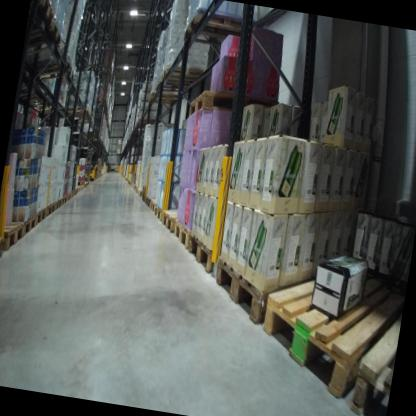pallet: (253, 247, 406, 402), (206, 240, 294, 330), (348, 307, 401, 416), (184, 82, 275, 129), (179, 6, 262, 57), (27, 13, 70, 67), (28, 54, 76, 91), (185, 230, 221, 274), (159, 202, 200, 239), (26, 0, 59, 41), (158, 59, 203, 87), (168, 217, 200, 256), (0, 218, 25, 257), (144, 85, 182, 108), (16, 211, 37, 239), (65, 104, 94, 123), (33, 96, 58, 117), (30, 204, 48, 228), (74, 113, 95, 129), (152, 203, 165, 222), (0, 233, 6, 271), (45, 199, 57, 218), (51, 196, 63, 214), (149, 196, 159, 210), (59, 192, 68, 207), (145, 196, 154, 209), (63, 190, 73, 201), (140, 183, 147, 198), (69, 186, 77, 197), (139, 195, 148, 204)
